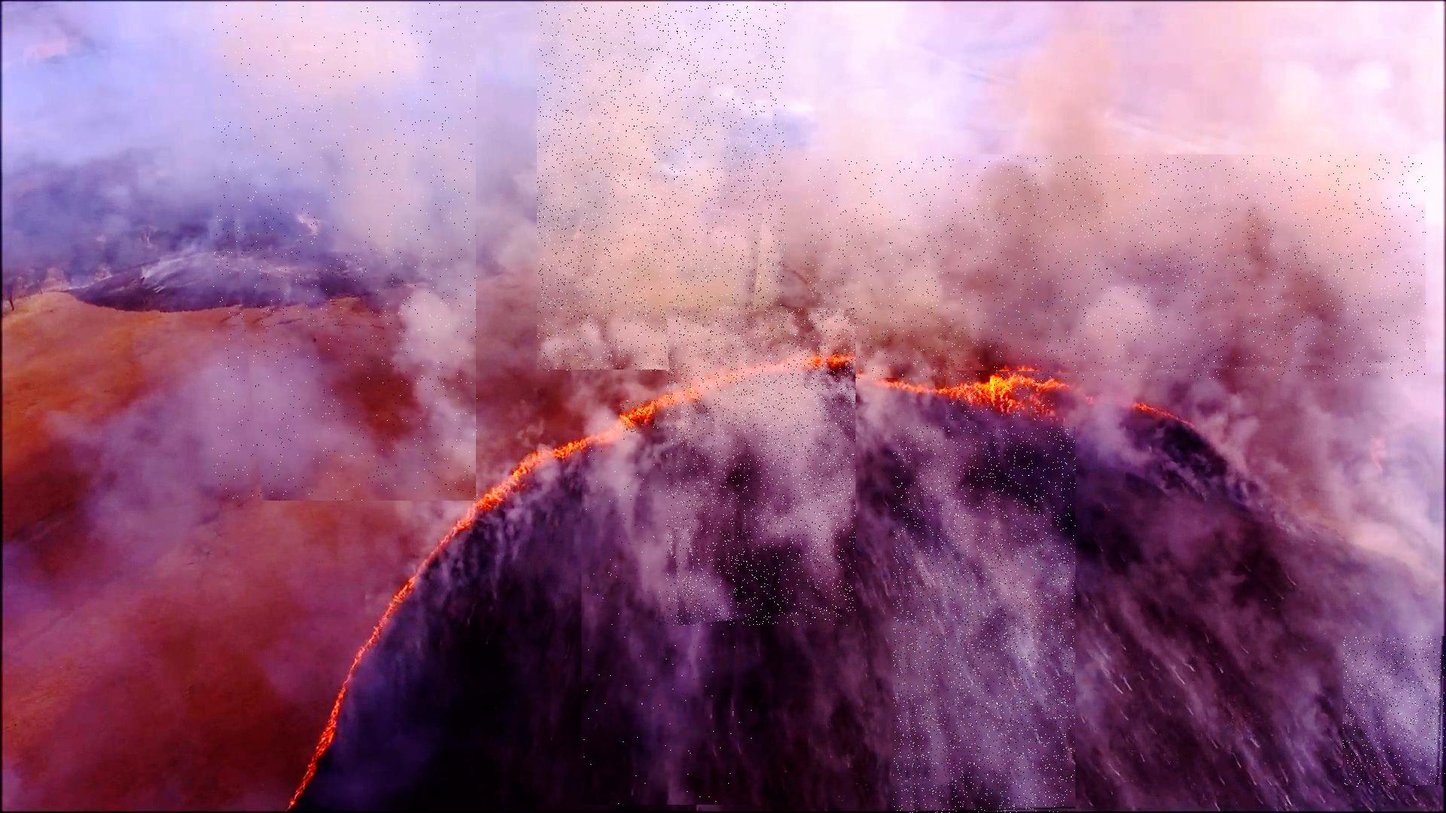fire: (947, 371, 1053, 421), (621, 401, 659, 433)
smoke: (805, 155, 1426, 380), (213, 3, 478, 501), (537, 4, 786, 372), (893, 426, 1075, 813), (581, 416, 753, 805), (667, 308, 856, 626), (1343, 637, 1446, 787)
